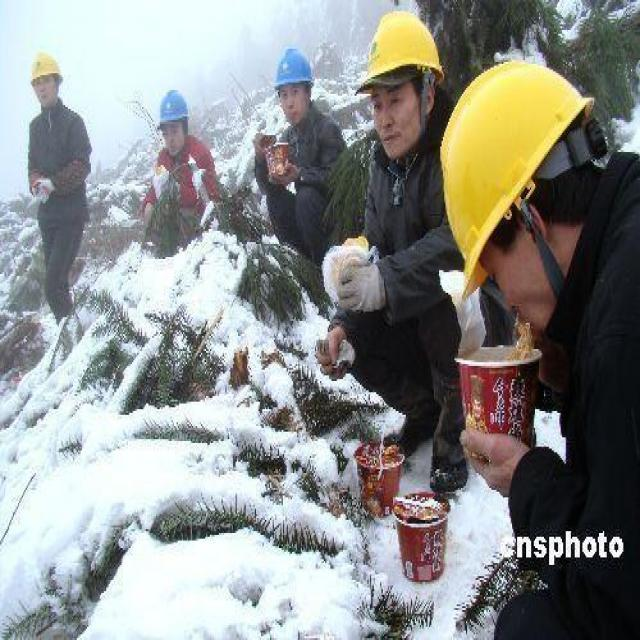hat: (436, 62, 614, 327), (356, 4, 448, 154), (270, 43, 316, 126), (154, 80, 194, 160), (26, 41, 66, 109)
